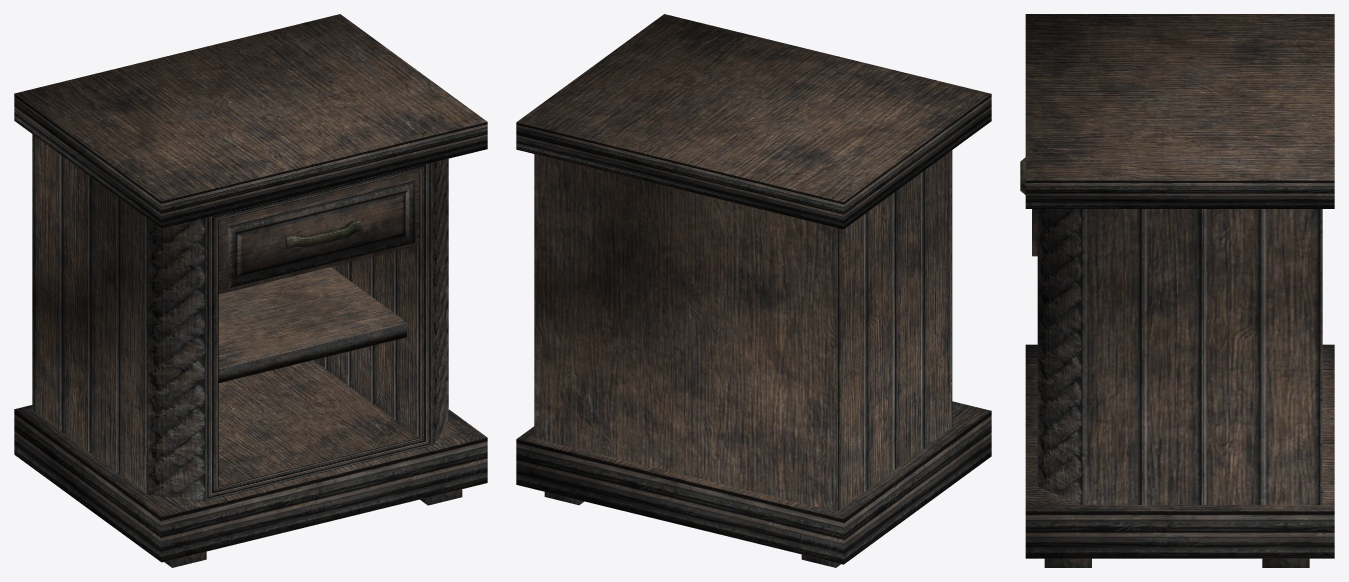
Rendered from GS_VOB_BEDCASE_BLACK_02_KOZA.glb.
The picture shows the model from 3 angles, left to right: view 1: azimuth 30°, elevation 25°; view 2: azimuth 150°, elevation 25°; view 3: azimuth 270°, elevation 25°; orthographic projection. The views are drawn at different scales.
Visible parts, largest first — view 1: Mesh; view 2: Mesh; view 3: Mesh.
Boxes of the visible parts, x1,y1,x2,y2 form: Mesh: (14,14,487,567); Mesh: (516,14,991,567); Mesh: (1020,14,1334,567).
Size of the model in its own units: 0.8159 by 0.9034 by 0.6504.
Materials: 4 (4 with a texture image).
